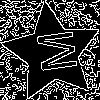M: (27, 28, 78, 76)
